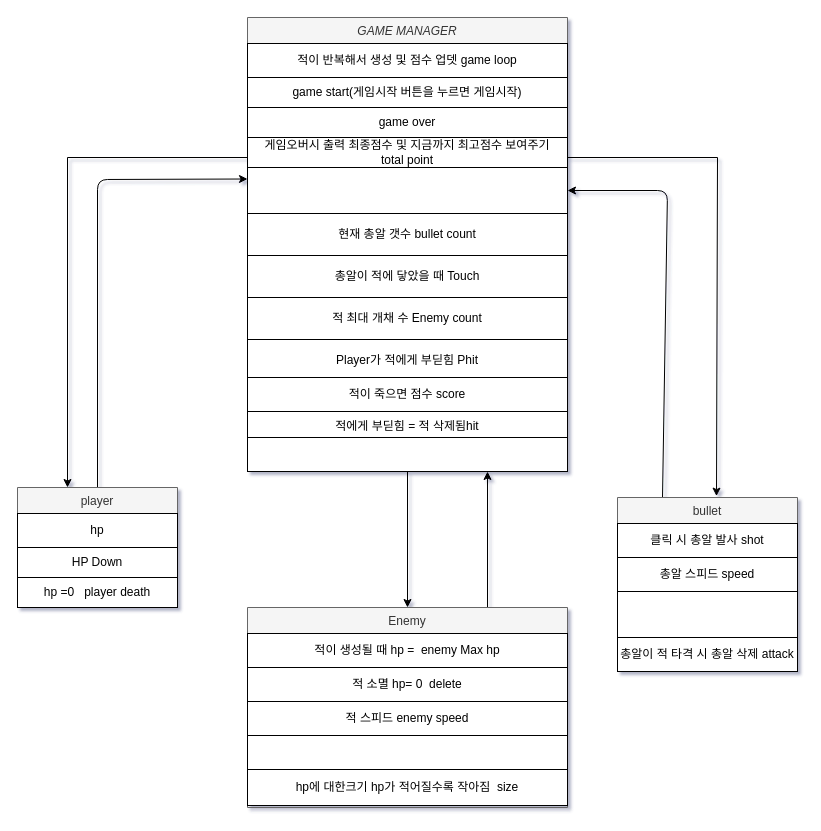
Some shapes in this 821 by 831 pixel diagram are drawn without their labels. The shapes that lost their labels are listed below. From the top down, each one's centre as x and y in pixels, then its label:
At (407,190): "시작 전 최대 총알 갯수 선택 bullet type".
At (407,454): "벽 랜덤한 곳에서 나타나기 position random x,y".
At (707,614): "총알 캔버스(화면) 나가면 사라지기 out".
At (407,752): "총알에 맞으면 체력 감소 enemy_HP".
